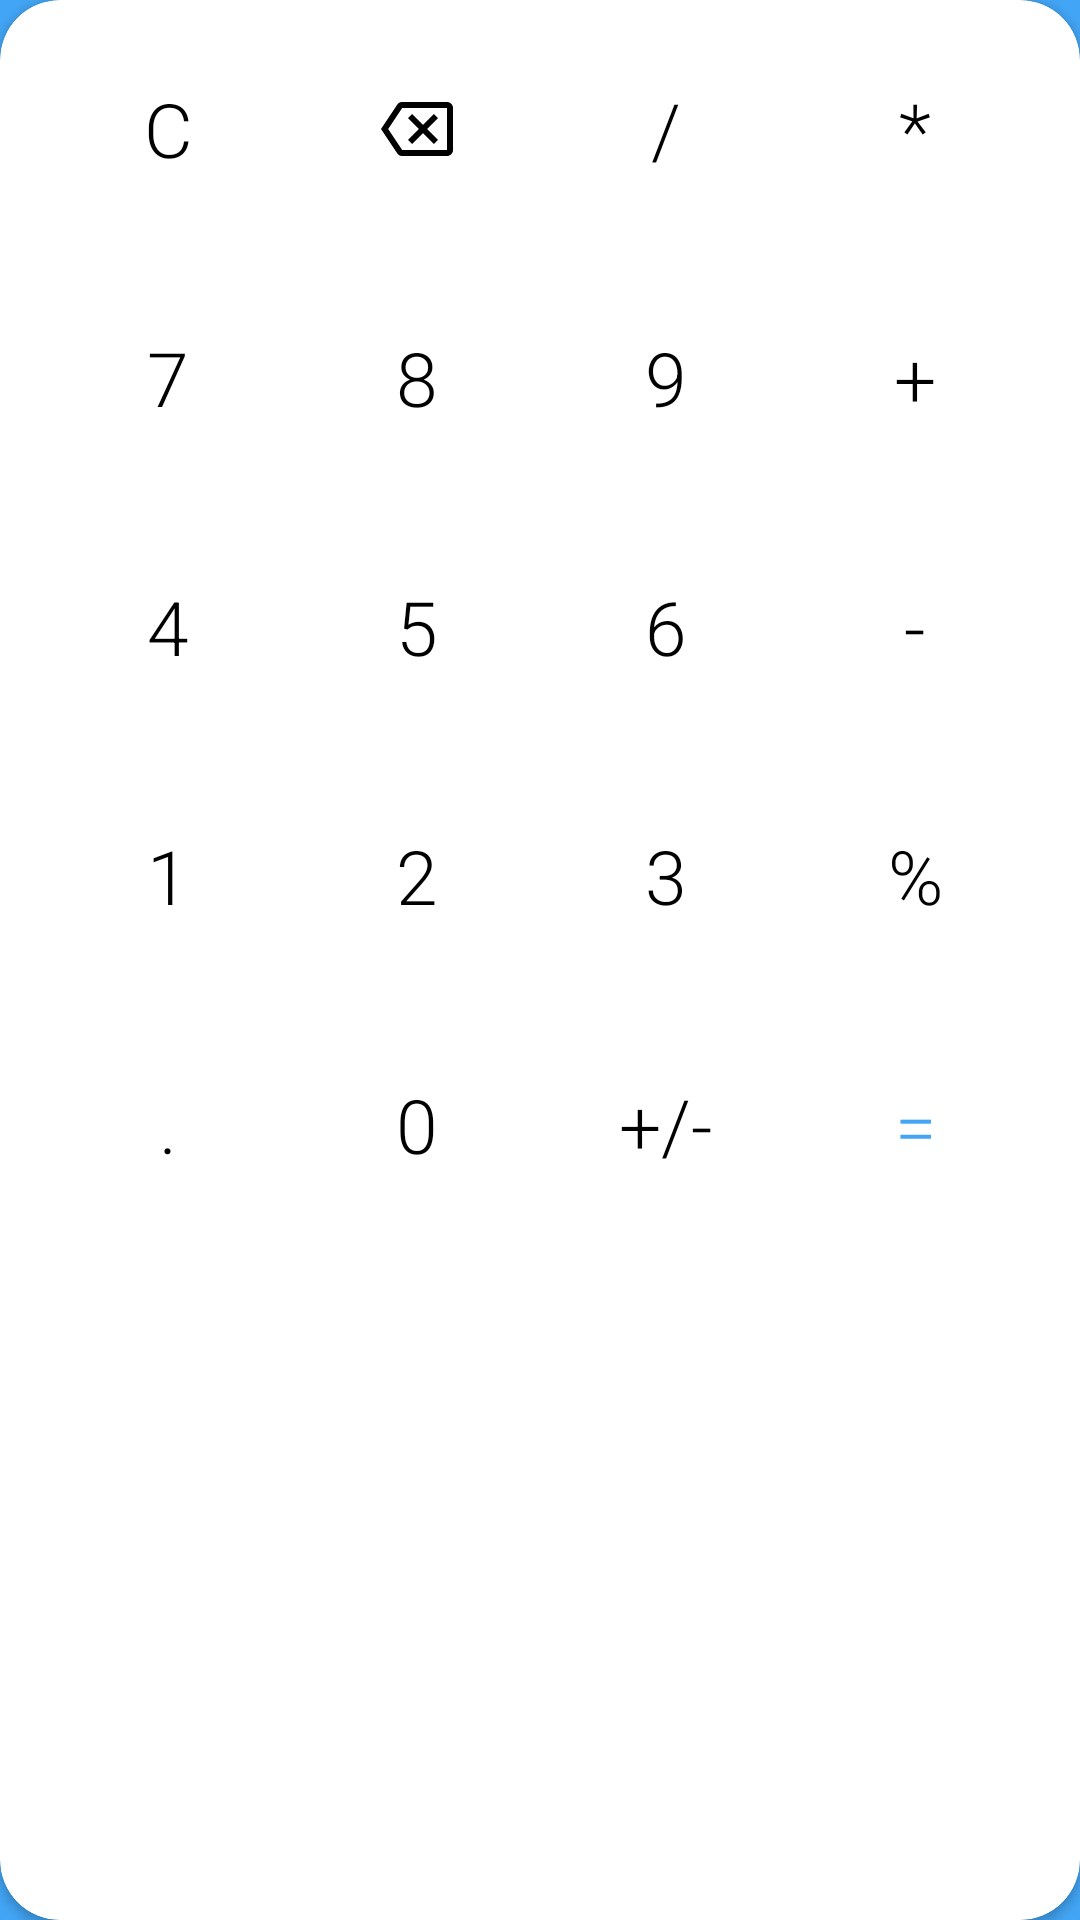

Where to tap for icons on this 1080*1920 app screen, as [x,y]:
backspace: [417,129]
